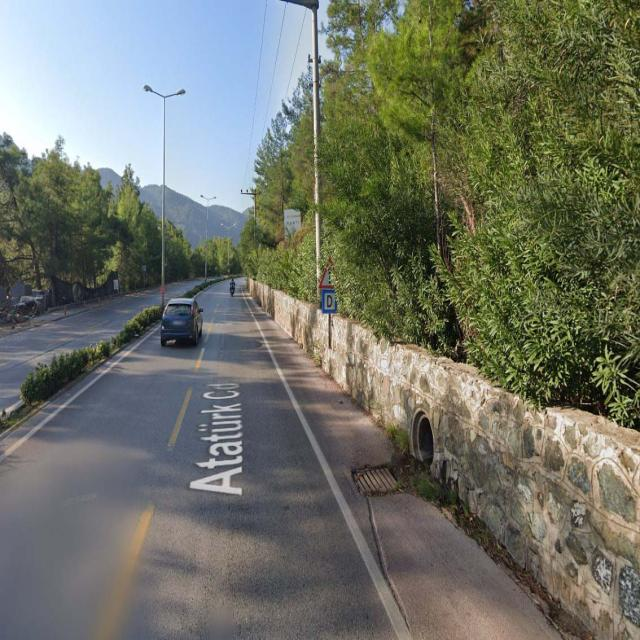durak: (322, 289, 337, 313)
